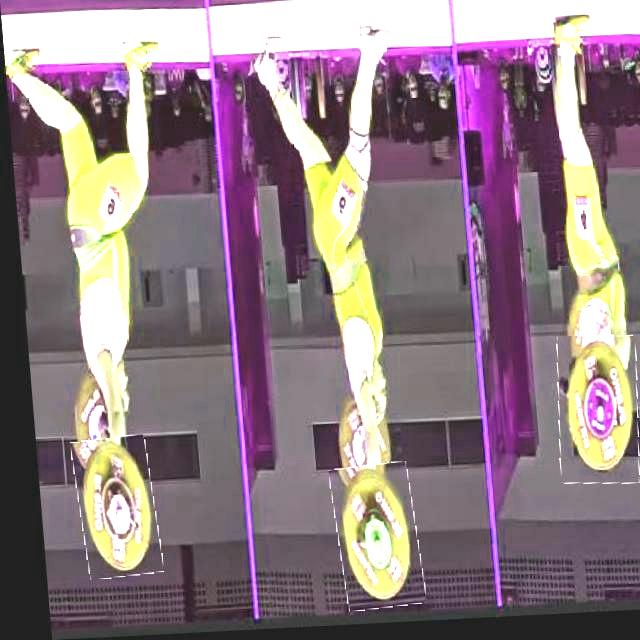barbell: (545, 340, 637, 492), (324, 467, 415, 614), (65, 437, 153, 580)
